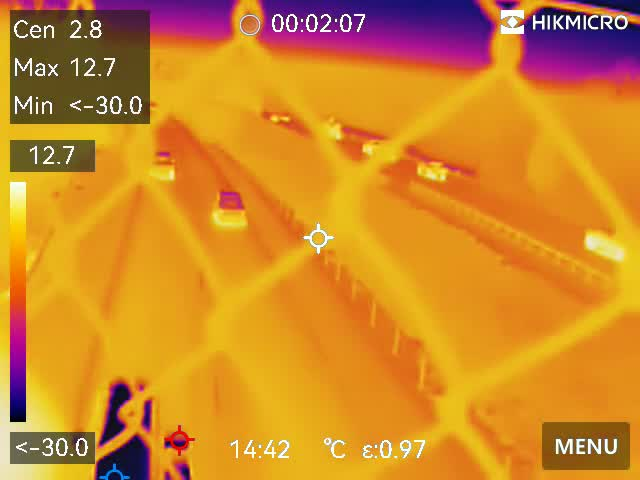vehicle: (80, 376, 197, 480), (211, 183, 250, 233), (361, 135, 403, 161), (152, 147, 182, 183), (414, 157, 457, 179), (311, 119, 347, 142), (269, 111, 293, 124)
